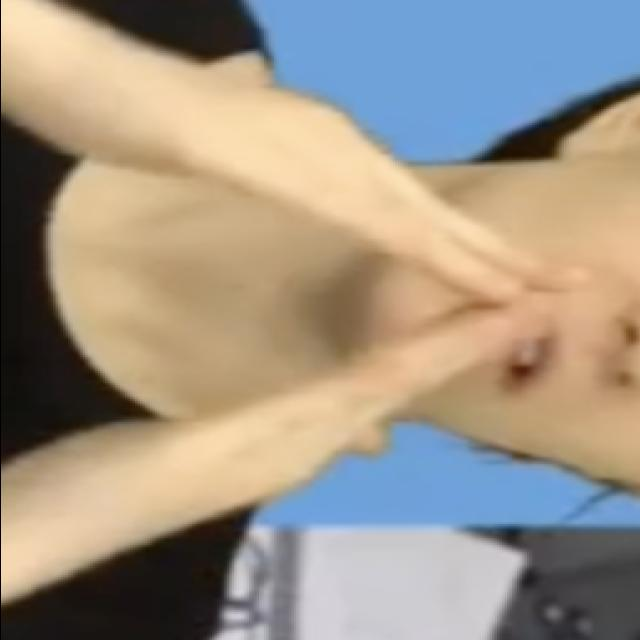casa: (21, 8, 597, 607)
